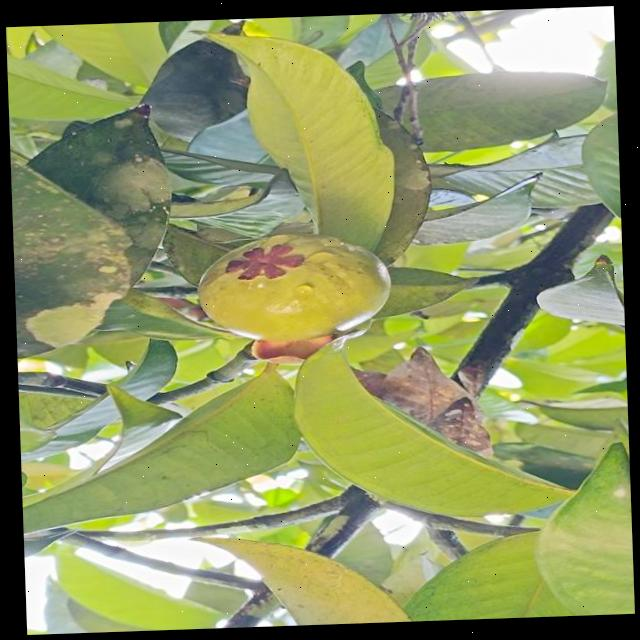mangosteen: (152, 182, 394, 396)
